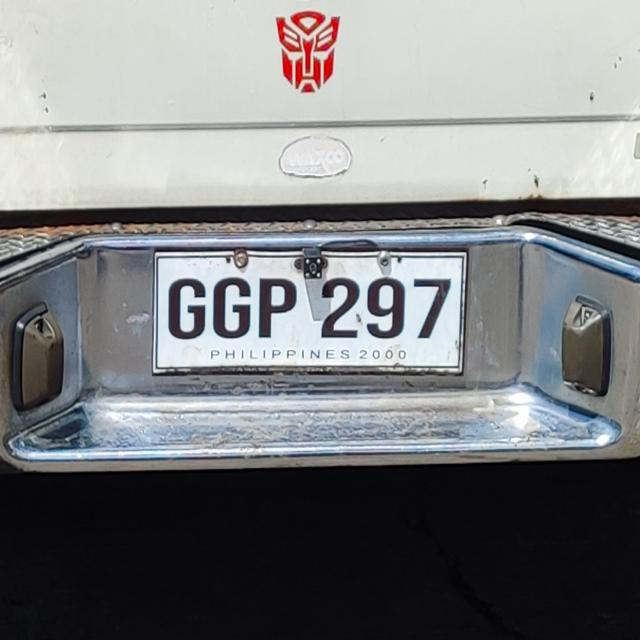plate: (148, 245, 472, 380)
